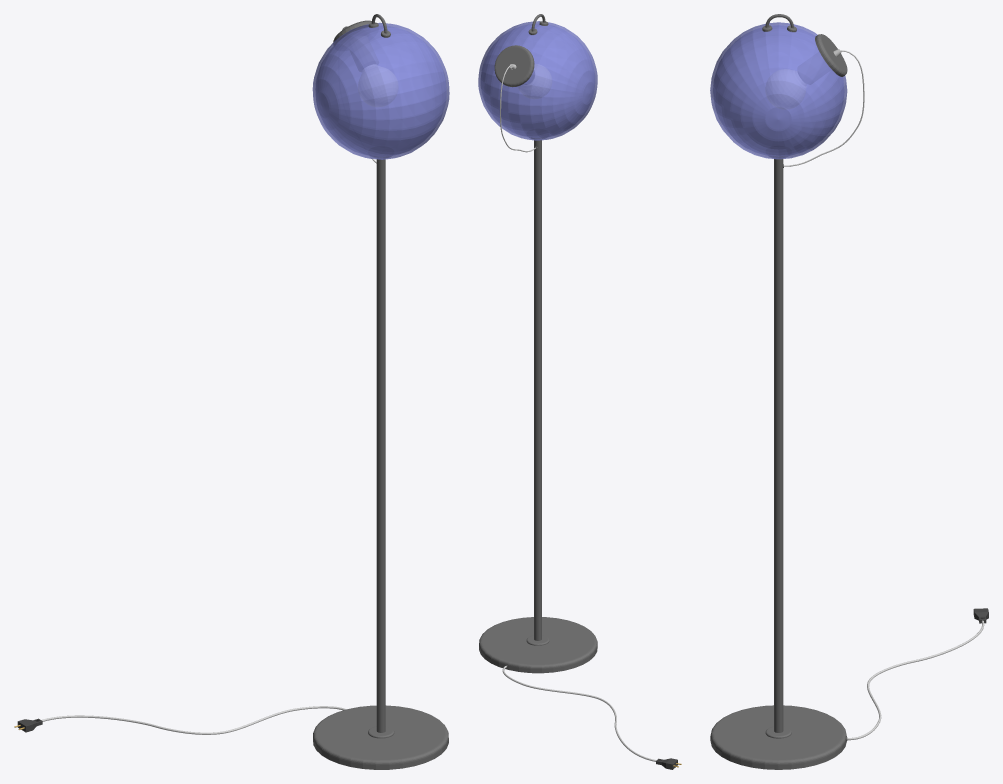
Rendered from Torchere Nordic N300722.obj.
3 renders of one model, left to right at view 1: azimuth 30°, elevation 25°; view 2: azimuth 150°, elevation 25°; view 3: azimuth 270°, elevation 25°, orthographic. The views are drawn at different scales.
Parts seen in each view (by area): view 1: Sphere007, Cylinder026, Cylinder025, Sphere008, Line019; view 2: Sphere007, Cylinder026, Cylinder025, Cylinder024, Sphere008, Line019; view 3: Sphere007, Cylinder026, Cylinder025, Sphere008, Cylinder024, Line019, Line016.
Boxes of the visible parts, x1,y1,x2,y2 form: Sphere007: [312, 22, 449, 159]; Cylinder026: [313, 705, 448, 769]; Cylinder025: [376, 159, 385, 732]; Sphere008: [358, 65, 397, 106]; Line019: [41, 706, 345, 734]; Sphere007: [478, 21, 597, 140]; Cylinder026: [479, 617, 597, 673]; Cylinder025: [534, 140, 541, 640]; Cylinder024: [494, 45, 534, 87]; Sphere008: [518, 64, 551, 98]; Line019: [502, 666, 656, 761]; Sphere007: [710, 22, 847, 159]; Cylinder026: [710, 705, 846, 769]; Cylinder025: [774, 159, 783, 732]; Sphere008: [766, 69, 806, 108]; Cylinder024: [815, 34, 847, 76]; Line019: [847, 620, 984, 740]; Line016: [798, 53, 830, 84].
Bounding box in the file's own units: 8221 × 17635 × 6131.
